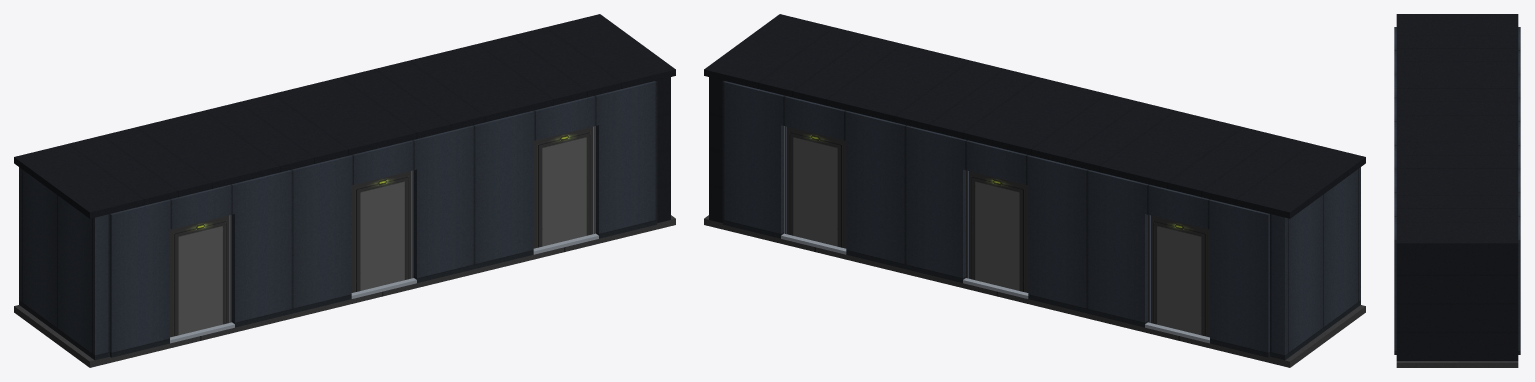
Rendered from hub.glb.
3 renders of one model, left to right at view 1: azimuth 30°, elevation 25°; view 2: azimuth 150°, elevation 25°; view 3: azimuth 270°, elevation 25°, orthographic. The views are drawn at different scales.
Visible parts, largest first — view 1: HUB_ceil, HUB_end_a, HUB_wall_L_2_b, HUB_wall_L_1_b, HUB_wall_L_0_b, HUB_wall_L_0_a, HUB_wall_L_1_a, HUB_wall_L_2_a, HUB_door_L_1, HUB_door_L_2, HUB_door_L_0, HUB_floor (+4 smaller); view 2: HUB_ceil, HUB_end_a, HUB_wall_R_2_b, HUB_wall_R_1_b, HUB_wall_R_0_b, HUB_wall_R_0_a, HUB_wall_R_1_a, HUB_wall_R_2_a, HUB_door_R_1, HUB_door_R_2, HUB_door_R_0, HUB_floor (+4 smaller); view 3: HUB_ceil, HUB_end_b, HUB_floor, HUB_wall_L_2_b, HUB_wall_R_2_b.
Part boxes in pixels (box(x1,y1,x2,y2)): HUB_ceil: box(14, 14, 675, 218); HUB_end_a: box(19, 167, 109, 360); HUB_wall_L_2_b: box(596, 81, 657, 238); HUB_wall_L_1_b: box(414, 125, 475, 282); HUB_wall_L_0_b: box(232, 169, 293, 327); HUB_wall_L_0_a: box(110, 199, 169, 357); HUB_wall_L_1_a: box(292, 155, 351, 313); HUB_wall_L_2_a: box(474, 111, 533, 268); HUB_door_L_1: box(351, 170, 413, 292); HUB_door_L_2: box(533, 126, 595, 248); HUB_door_L_0: box(170, 214, 231, 337); HUB_floor: box(14, 215, 675, 367); HUB_ceil: box(704, 14, 1365, 218); HUB_end_a: box(1270, 167, 1360, 360); HUB_wall_R_2_b: box(722, 81, 783, 238); HUB_wall_R_1_b: box(904, 125, 965, 282); HUB_wall_R_0_b: box(1086, 169, 1147, 327); HUB_wall_R_0_a: box(1210, 199, 1269, 357); HUB_wall_R_1_a: box(1028, 155, 1087, 313); HUB_wall_R_2_a: box(846, 111, 905, 268); HUB_door_R_1: box(966, 170, 1028, 292); HUB_door_R_2: box(784, 126, 846, 248); HUB_door_R_0: box(1148, 214, 1209, 337); HUB_floor: box(704, 215, 1365, 367); HUB_ceil: box(1396, 14, 1518, 248); HUB_end_b: box(1396, 248, 1518, 360); HUB_floor: box(1396, 361, 1518, 367); HUB_wall_L_2_b: box(1394, 217, 1396, 354); HUB_wall_R_2_b: box(1518, 217, 1520, 354).
Bounding box in the file's own units: 11.6 × 2.94 × 2.7.
11 materials, 5 textured.
